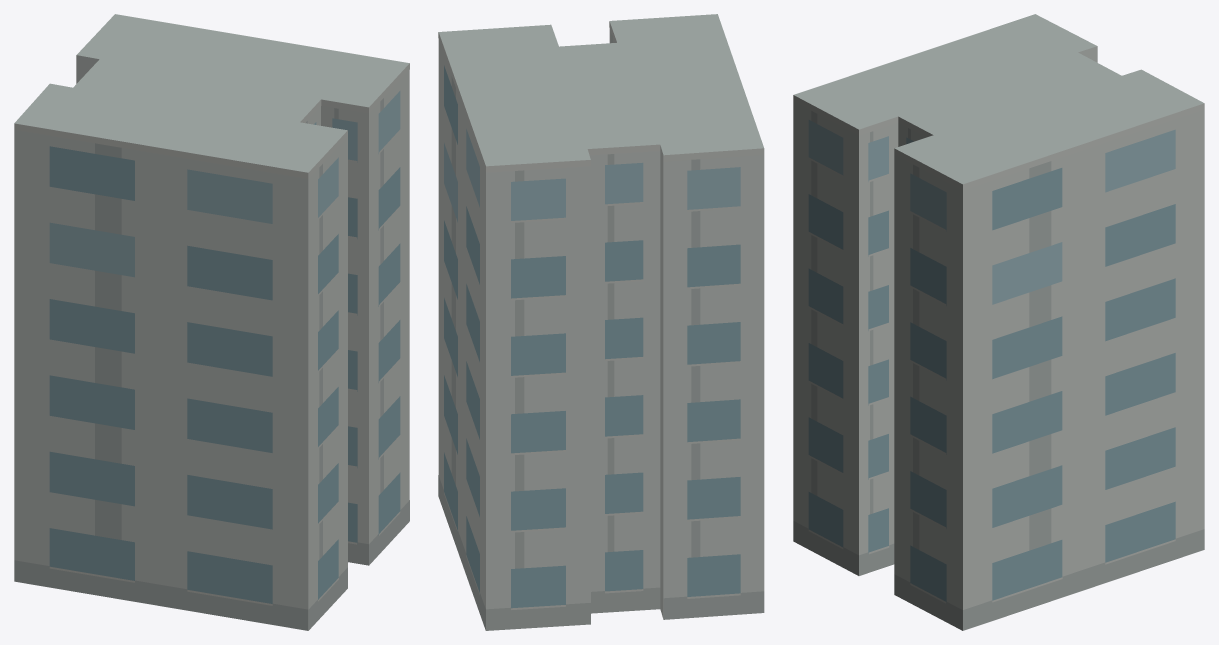
The model's file is survey-upis-33038314.glb.
3 views of the same model, side by side, from view 1: azimuth 30°, elevation 25°; view 2: azimuth 150°, elevation 25°; view 3: azimuth 270°, elevation 25° (orthographic). The views are drawn at different scales.
Parts seen in each view (by area): view 1: survey-upis-33038314.tmp; view 2: survey-upis-33038314.tmp; view 3: survey-upis-33038314.tmp.
Boxes of the visible parts, <box> form: survey-upis-33038314.tmp: <box>14,14,409,630</box>; survey-upis-33038314.tmp: <box>438,14,764,630</box>; survey-upis-33038314.tmp: <box>793,14,1204,630</box>.
Size of the model in its own units: 14.26 by 17.41 by 14.54.
